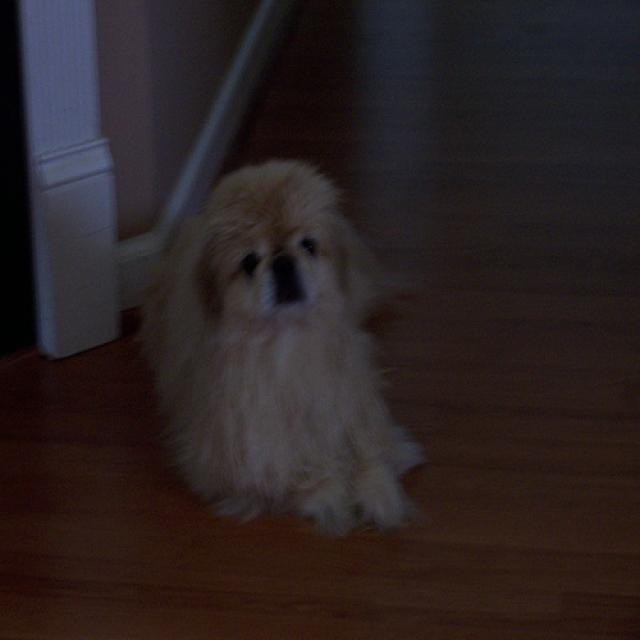Dog: (143, 187, 450, 566)
